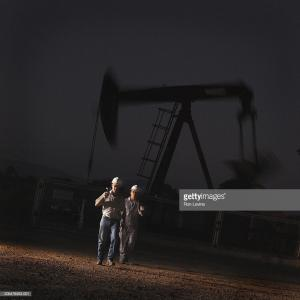white: (112, 178, 123, 193), (131, 186, 141, 200)
